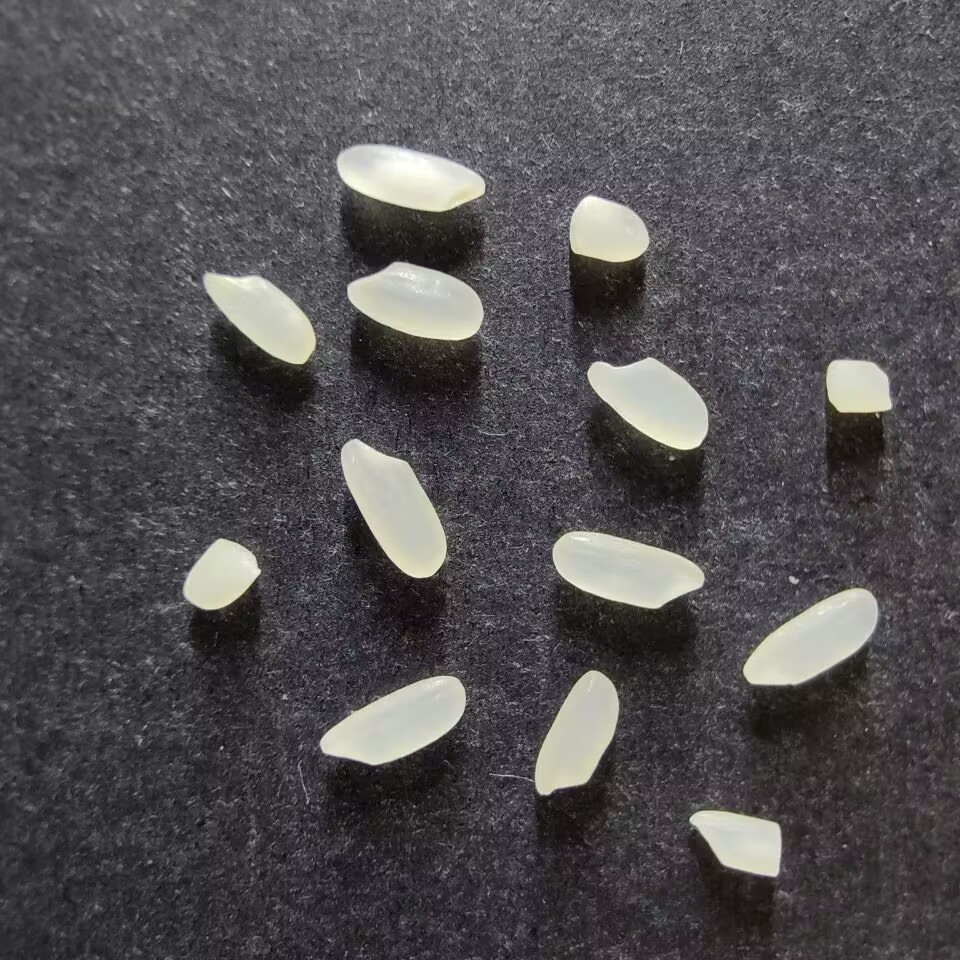broken: (689, 809, 782, 877), (182, 538, 261, 610), (568, 194, 650, 262), (825, 359, 892, 413)
rice: (339, 437, 446, 579), (741, 587, 878, 686), (318, 675, 467, 765), (552, 530, 705, 609), (586, 356, 709, 449), (345, 260, 484, 341), (533, 668, 619, 795), (202, 270, 316, 365), (335, 144, 486, 211)
